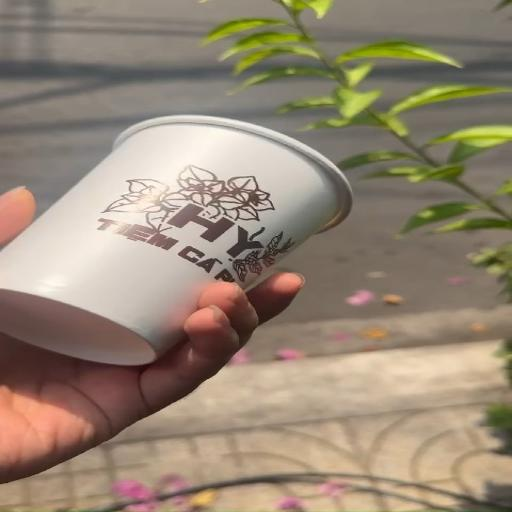Ly_giay: (0, 115, 351, 365)
